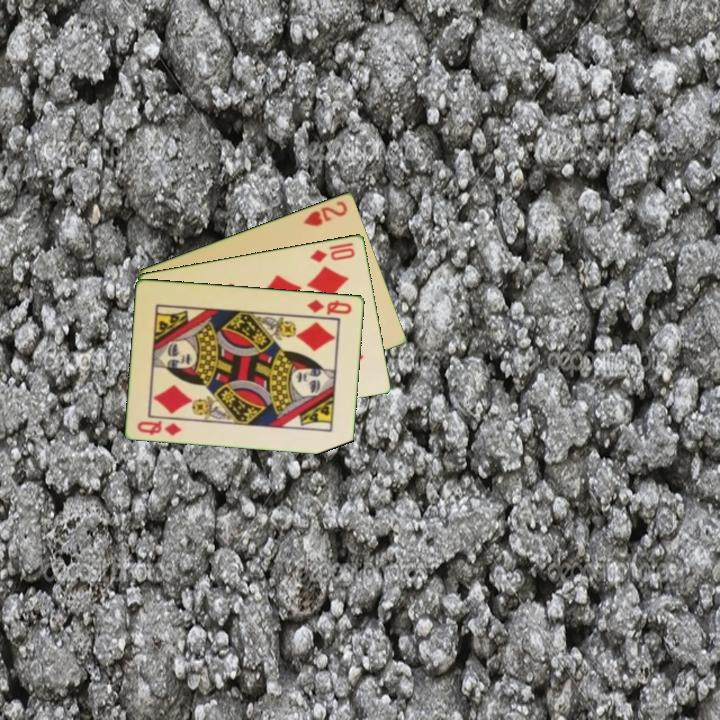10d: (307, 244, 358, 265)
2h: (300, 197, 350, 229)
Qd: (304, 295, 355, 318), (134, 416, 184, 438)
